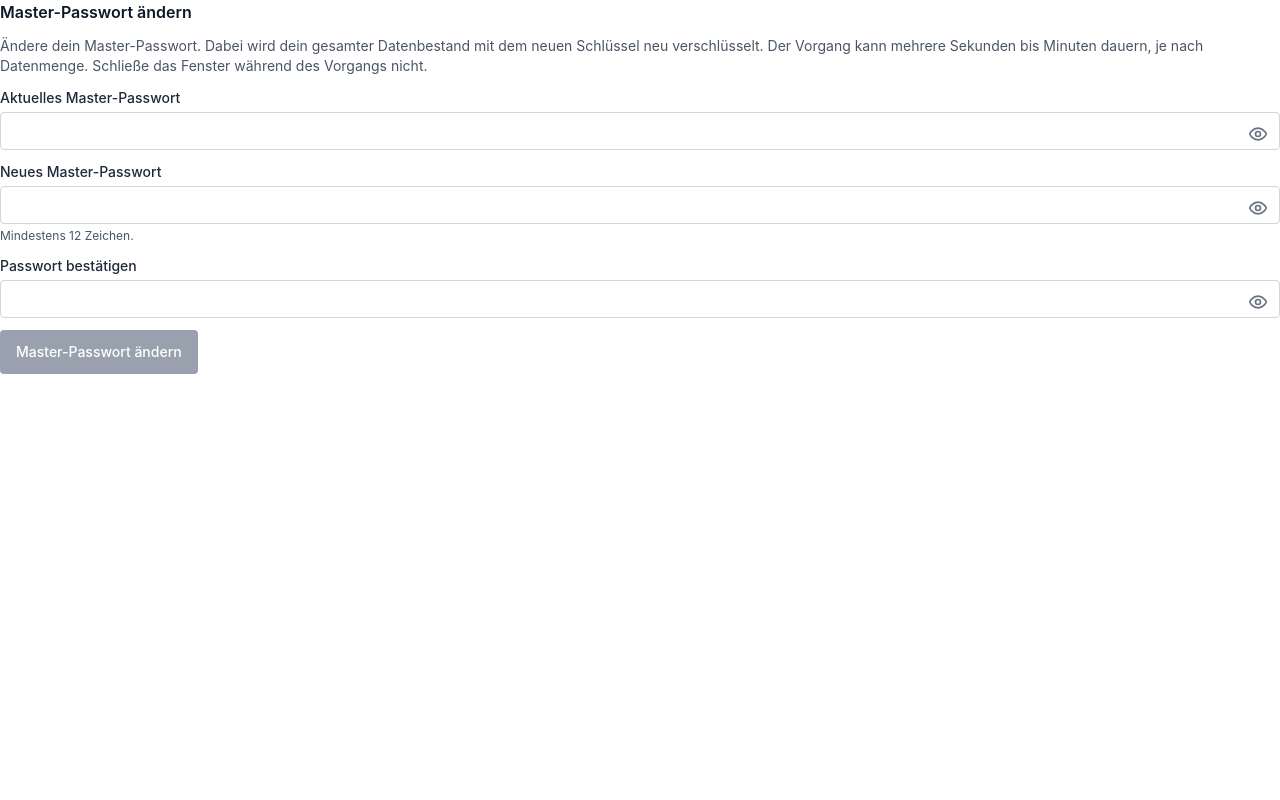
Test: ChangePasswordSection › wrong current password shows inline error and keeps form populated
Type "this-is-not-my-pw" into the password field labelled "Aktuelles Master-Passwort" at [640, 131], box x1=0 y1=112 x2=1279 y2=150
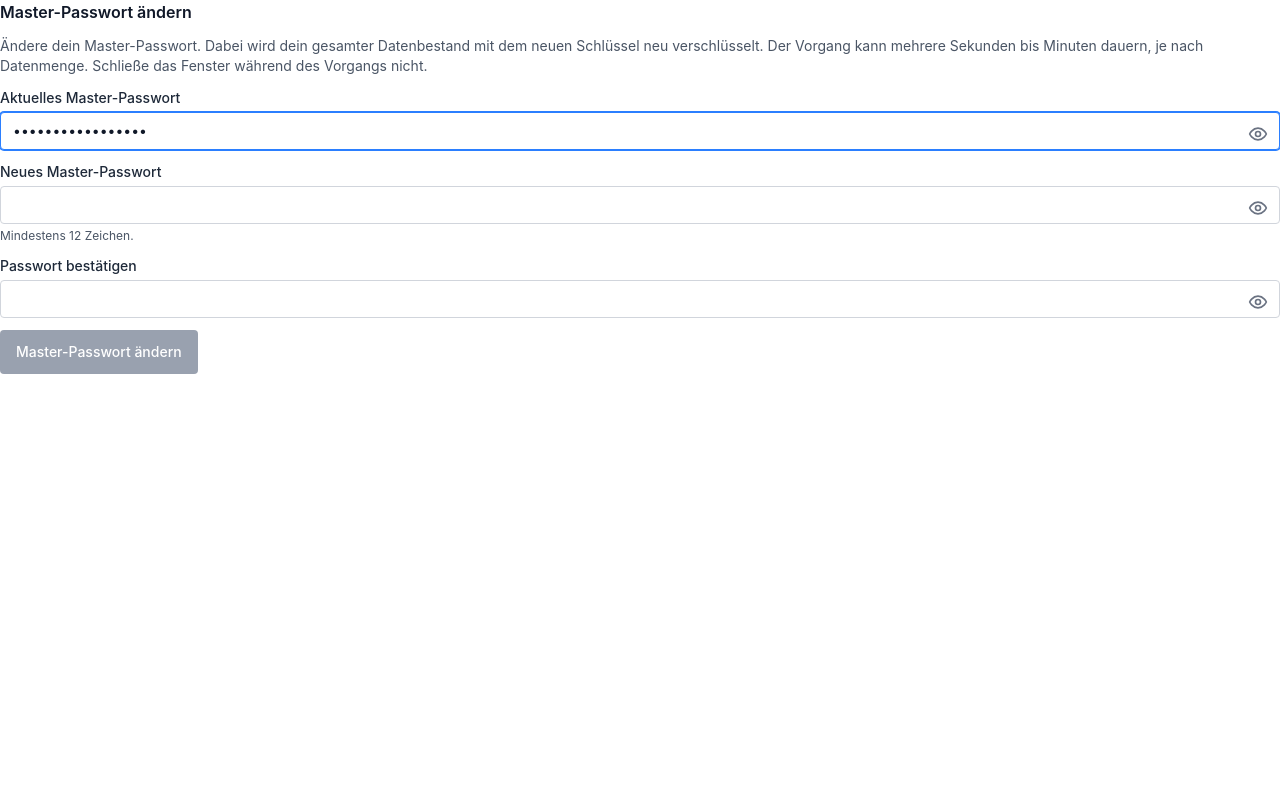
Type "next-password-345" into the password field labelled "Neues Master-Passwort" at [640, 205], box x1=0 y1=186 x2=1279 y2=224
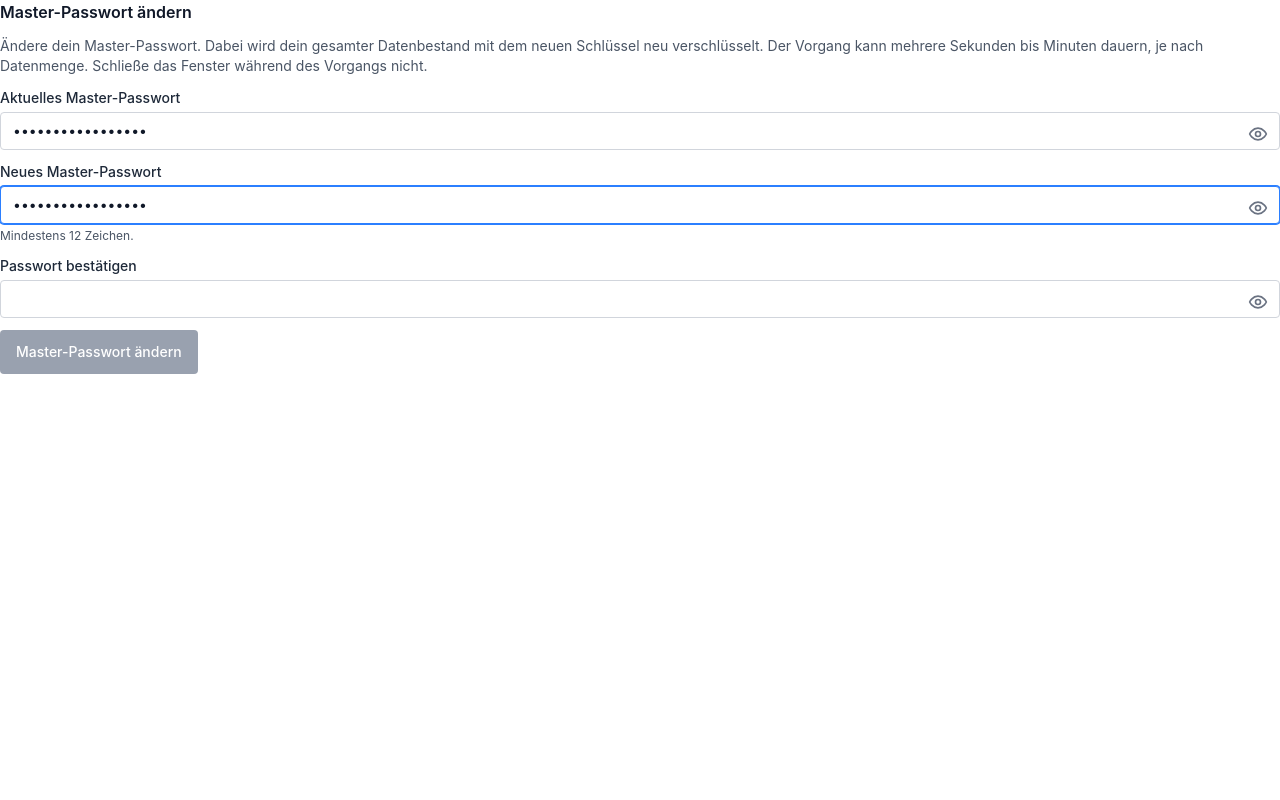
Type "next-password-345" into the password field labelled "Passwort bestätigen" at [640, 299], box x1=0 y1=280 x2=1279 y2=318
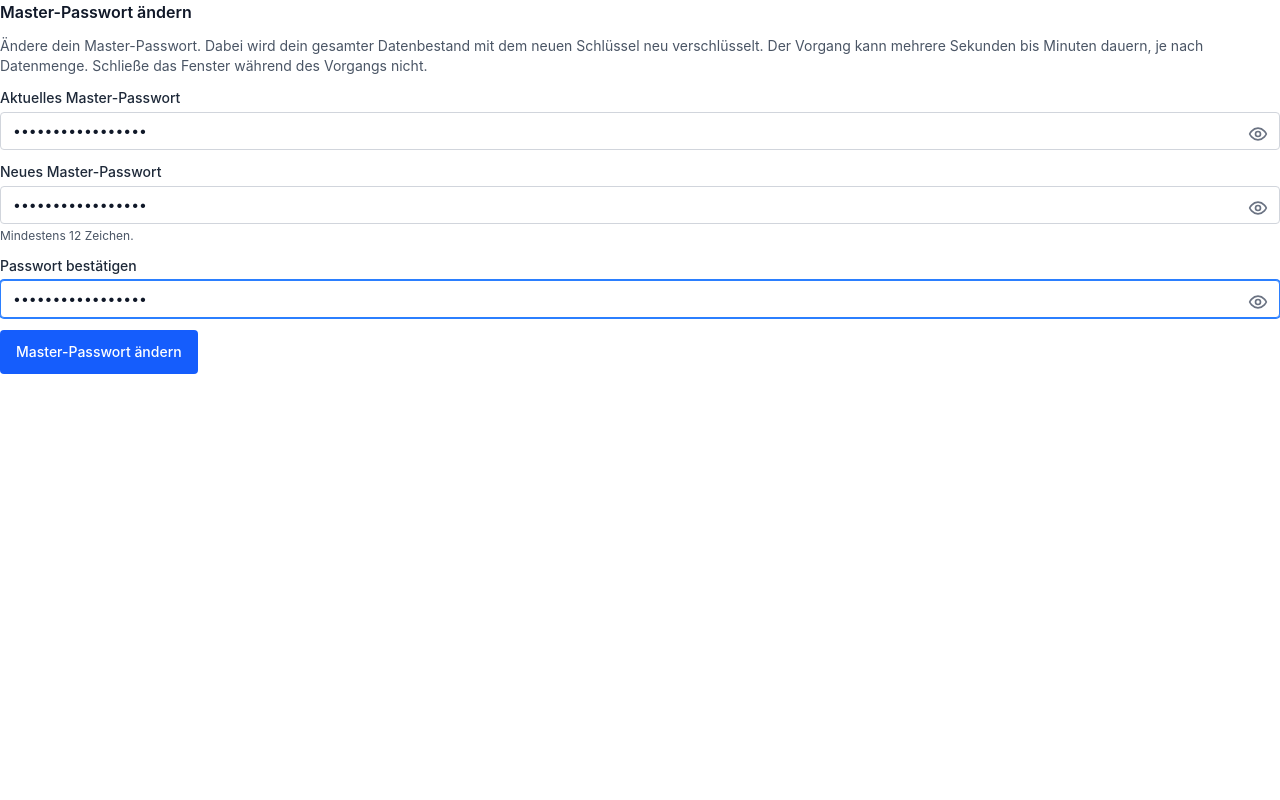
Click the button "Master-Passwort ändern" at [99, 352], box x1=0 y1=330 x2=198 y2=374
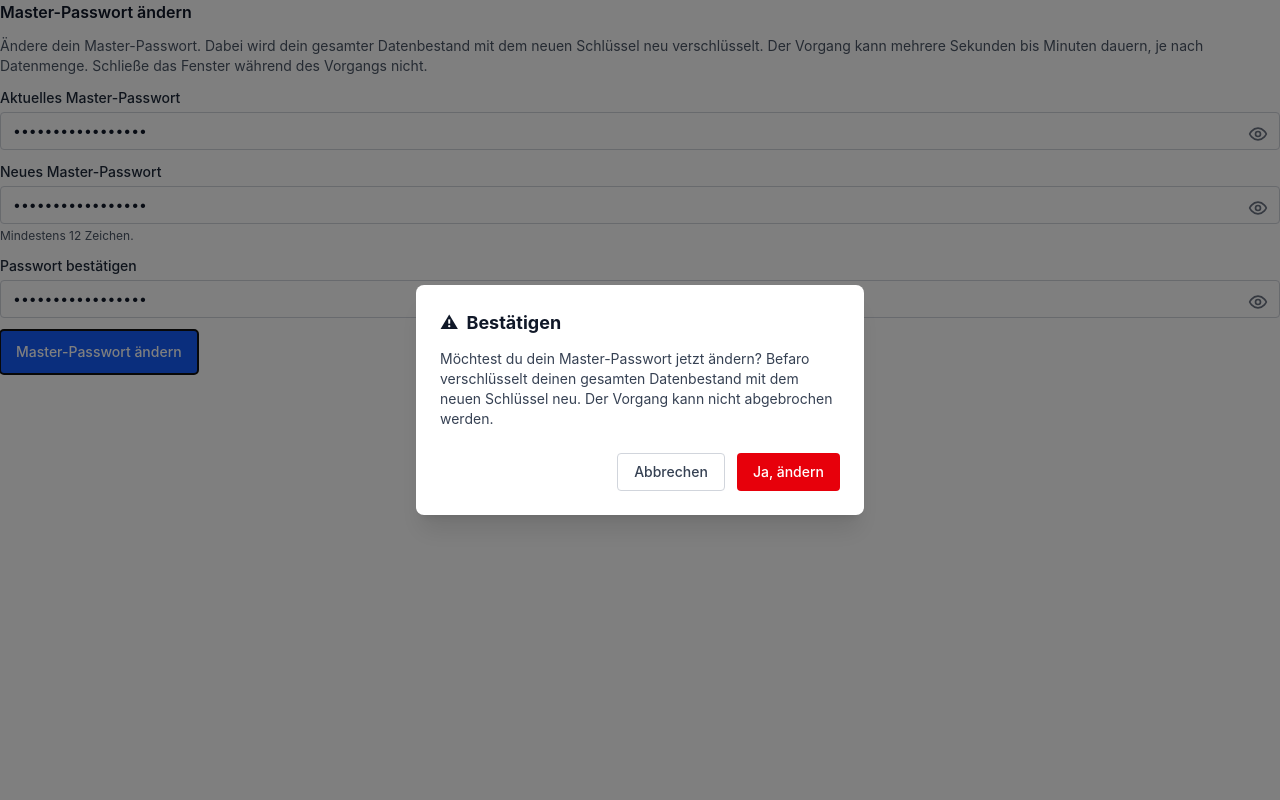
Click the button "Ja, ändern" at [788, 472], box x1=737 y1=453 x2=840 y2=491
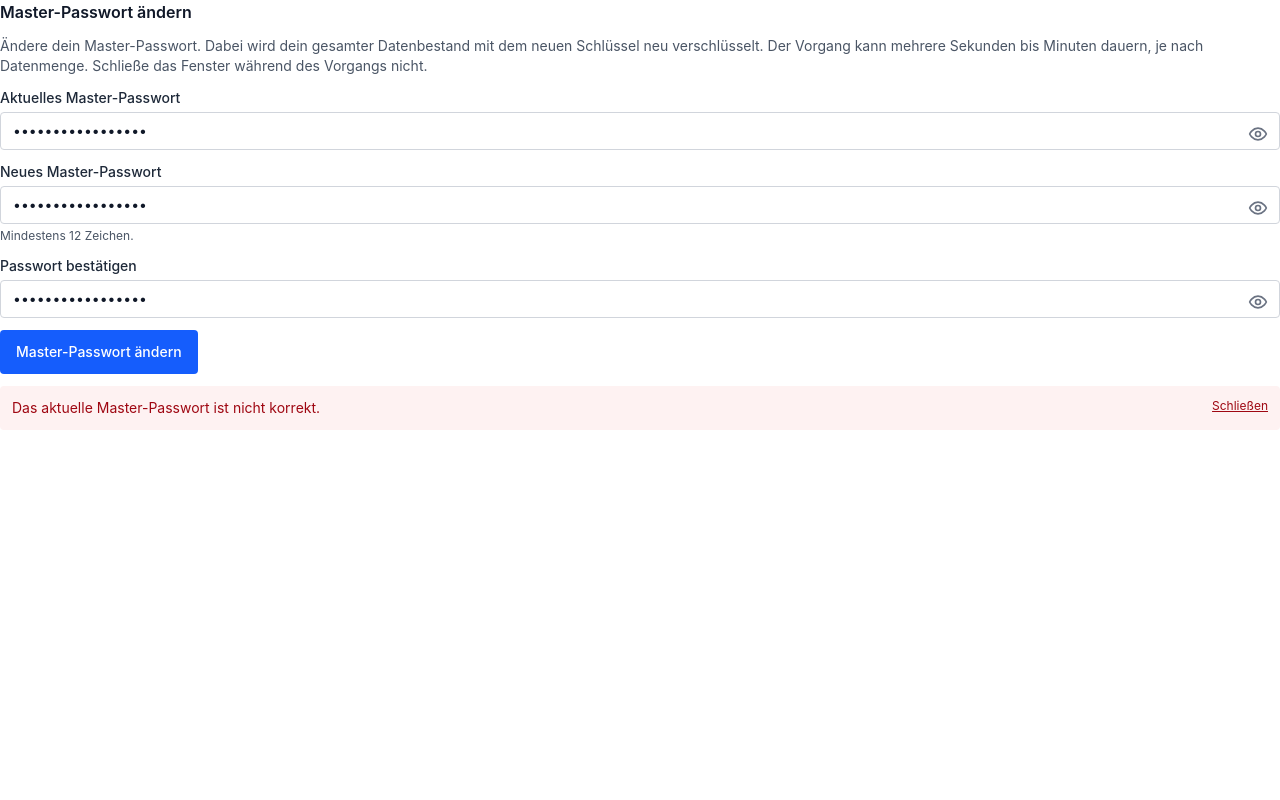
Check: the message shows "aktuelle Master-Passwort", box x1=12 y1=399 x2=320 y2=416
